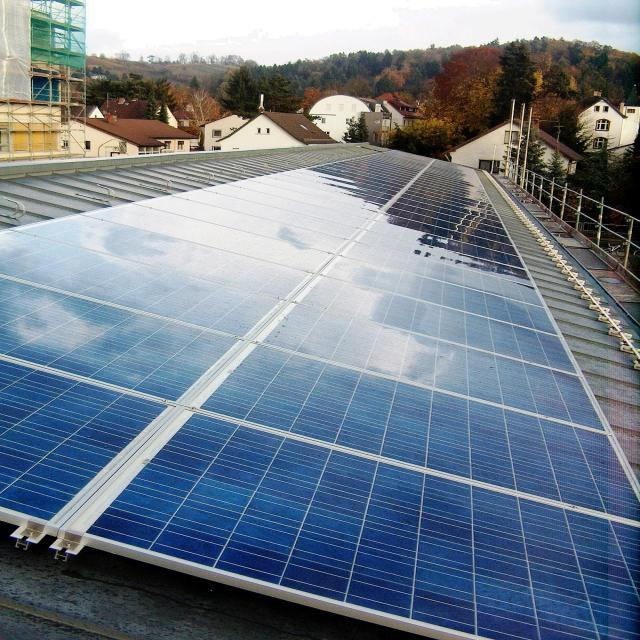no faulty: (10, 228, 640, 640), (106, 164, 506, 230)
